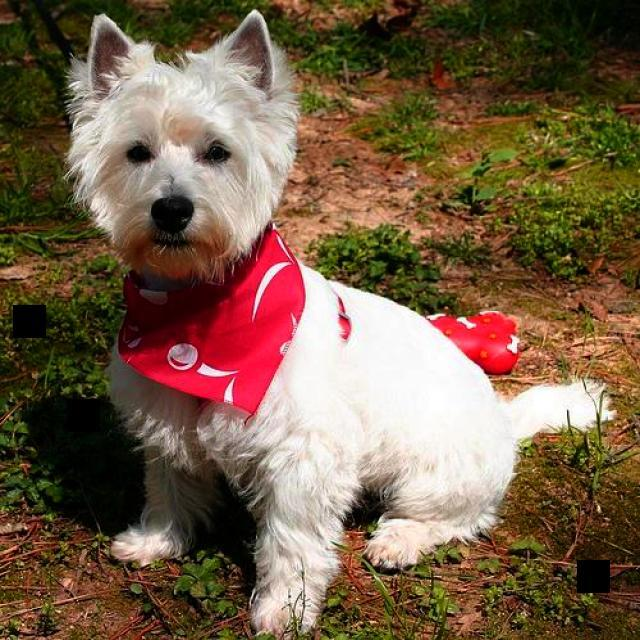adult_dog: (66, 10, 607, 629)
